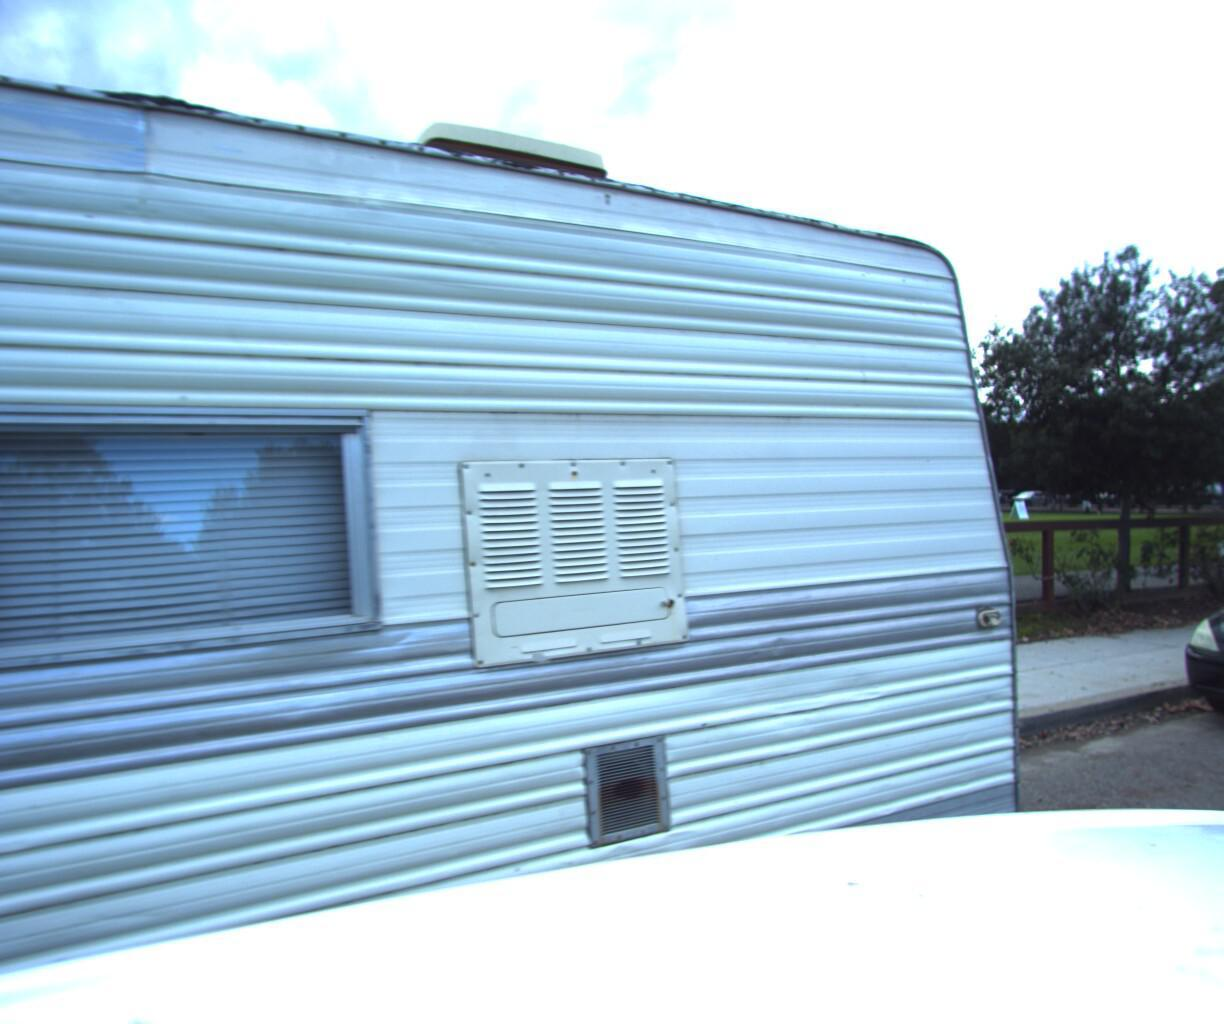car: (1161, 511, 1224, 786)
other_vehicle: (0, 0, 1091, 1024)
